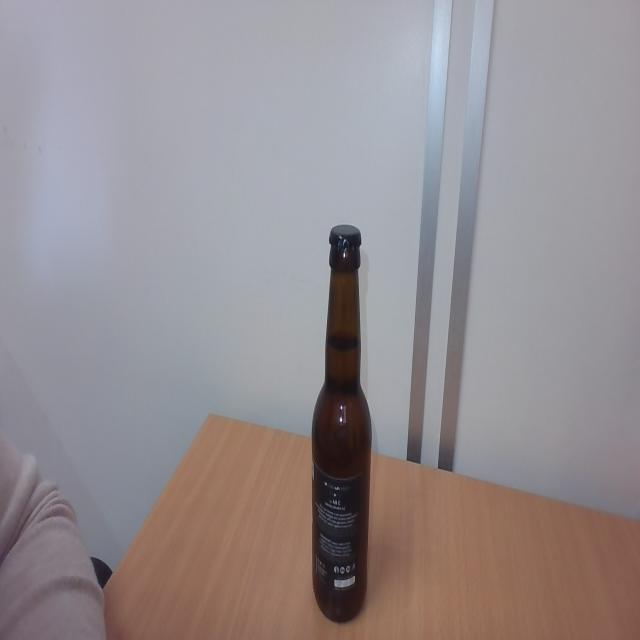Bottle: (311, 259, 371, 624)
Cap: (326, 222, 363, 258)
Label: (316, 468, 361, 590)
